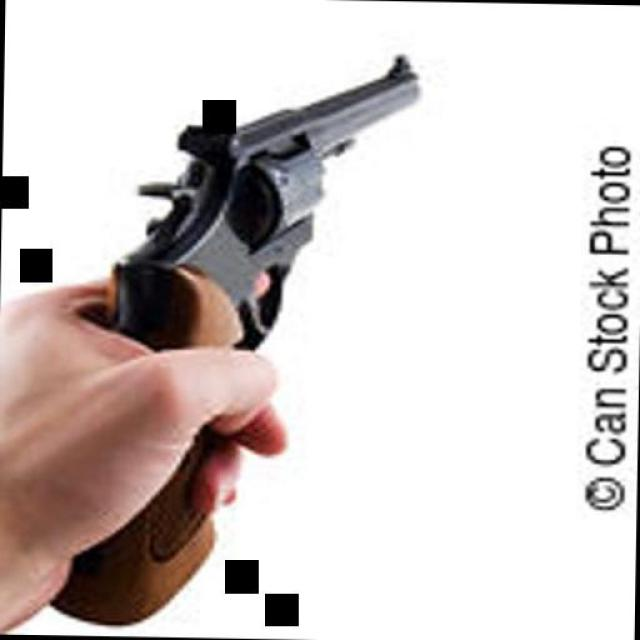gun: (36, 39, 422, 625)
